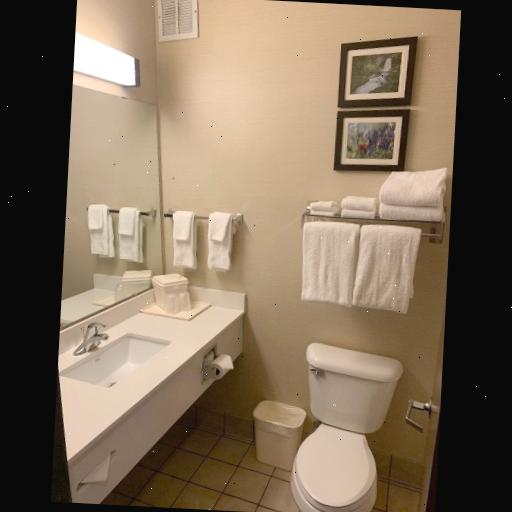clean mirror: (64, 84, 174, 322)
clean_floor: (111, 408, 298, 512)
clean_sink: (60, 273, 247, 503)
clean_toilet: (270, 329, 404, 512)
folded_towel: (297, 218, 422, 318), (377, 165, 450, 222), (164, 208, 206, 270), (200, 208, 236, 276), (309, 194, 379, 220)
